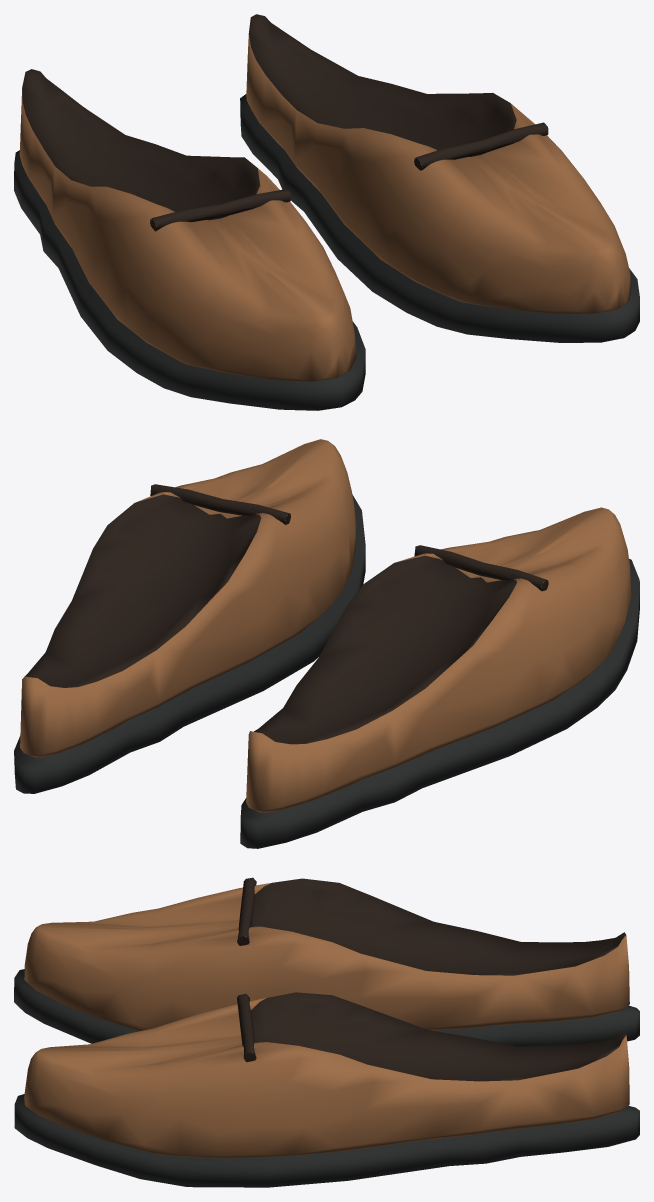
Rendered from shoes-loafer-lightweight-a7abde6e2a.glb.
3 renders of one model, top to bottom at view 1: azimuth 30°, elevation 25°; view 2: azimuth 150°, elevation 25°; view 3: azimuth 270°, elevation 25°, orthographic. The views are drawn at different scales.
Visible parts, largest first — view 1: shoes-loafer; view 2: shoes-loafer; view 3: shoes-loafer.
Part boxes in pixels (bbox=[...]): shoes-loafer: bbox=[14, 14, 639, 410]; shoes-loafer: bbox=[14, 439, 639, 848]; shoes-loafer: bbox=[14, 877, 639, 1187].
Size of the model in its own units: 0.2111 by 0.0593 by 0.2723.
